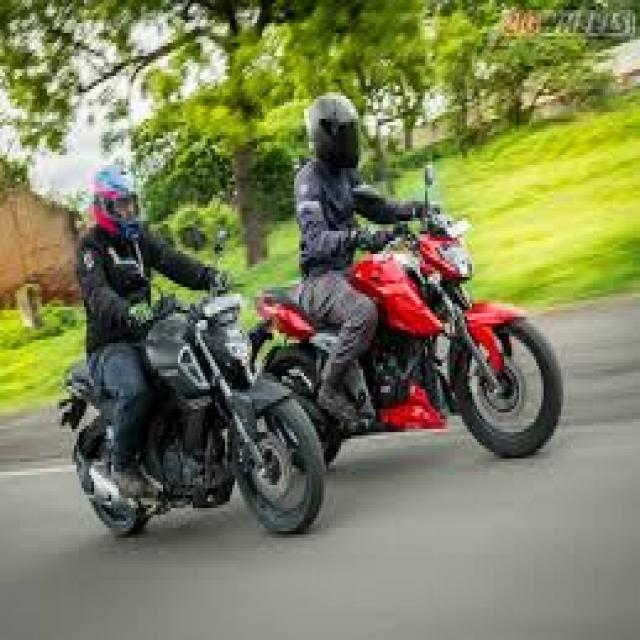Bike: (247, 163, 565, 474), (58, 242, 327, 539)
